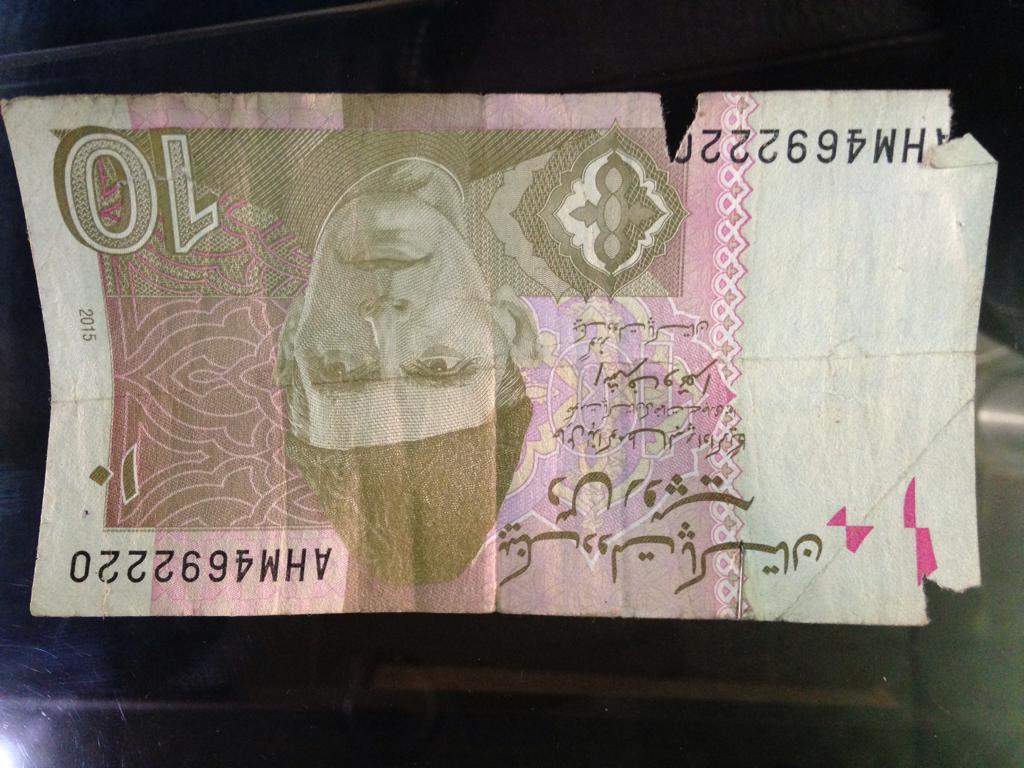10 rupee: (15, 72, 992, 652)
